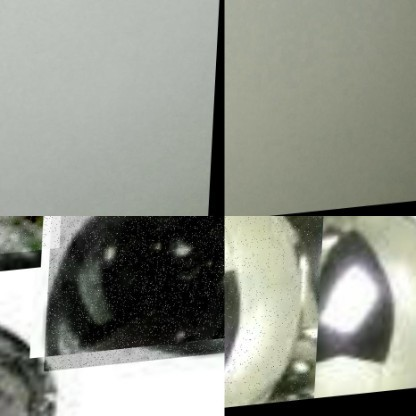ironball: (45, 216, 224, 376), (224, 216, 325, 411)
